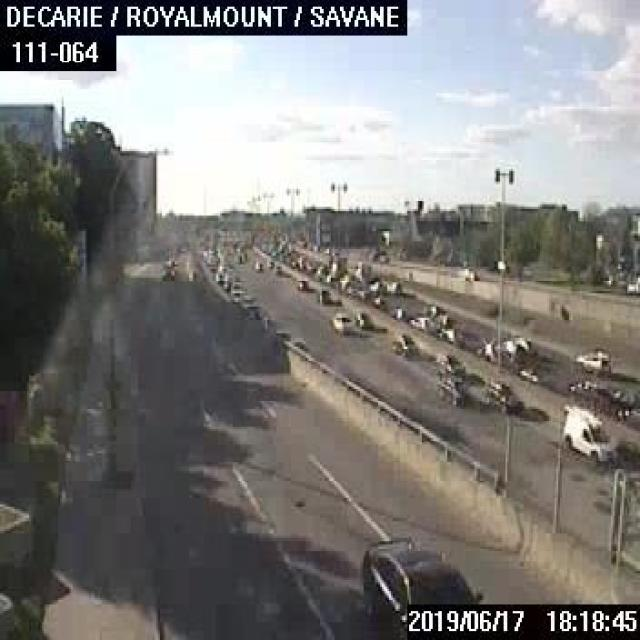vehicle: (358, 538, 484, 638), (560, 407, 614, 456), (480, 380, 517, 412), (573, 349, 611, 373), (434, 374, 464, 404), (436, 353, 464, 375), (389, 334, 413, 356), (330, 311, 352, 332), (239, 293, 259, 311), (352, 309, 372, 326), (408, 315, 432, 329), (517, 366, 539, 380), (161, 261, 173, 278), (317, 288, 330, 302), (295, 278, 306, 289), (252, 259, 262, 270), (272, 264, 280, 274), (266, 260, 274, 267)
